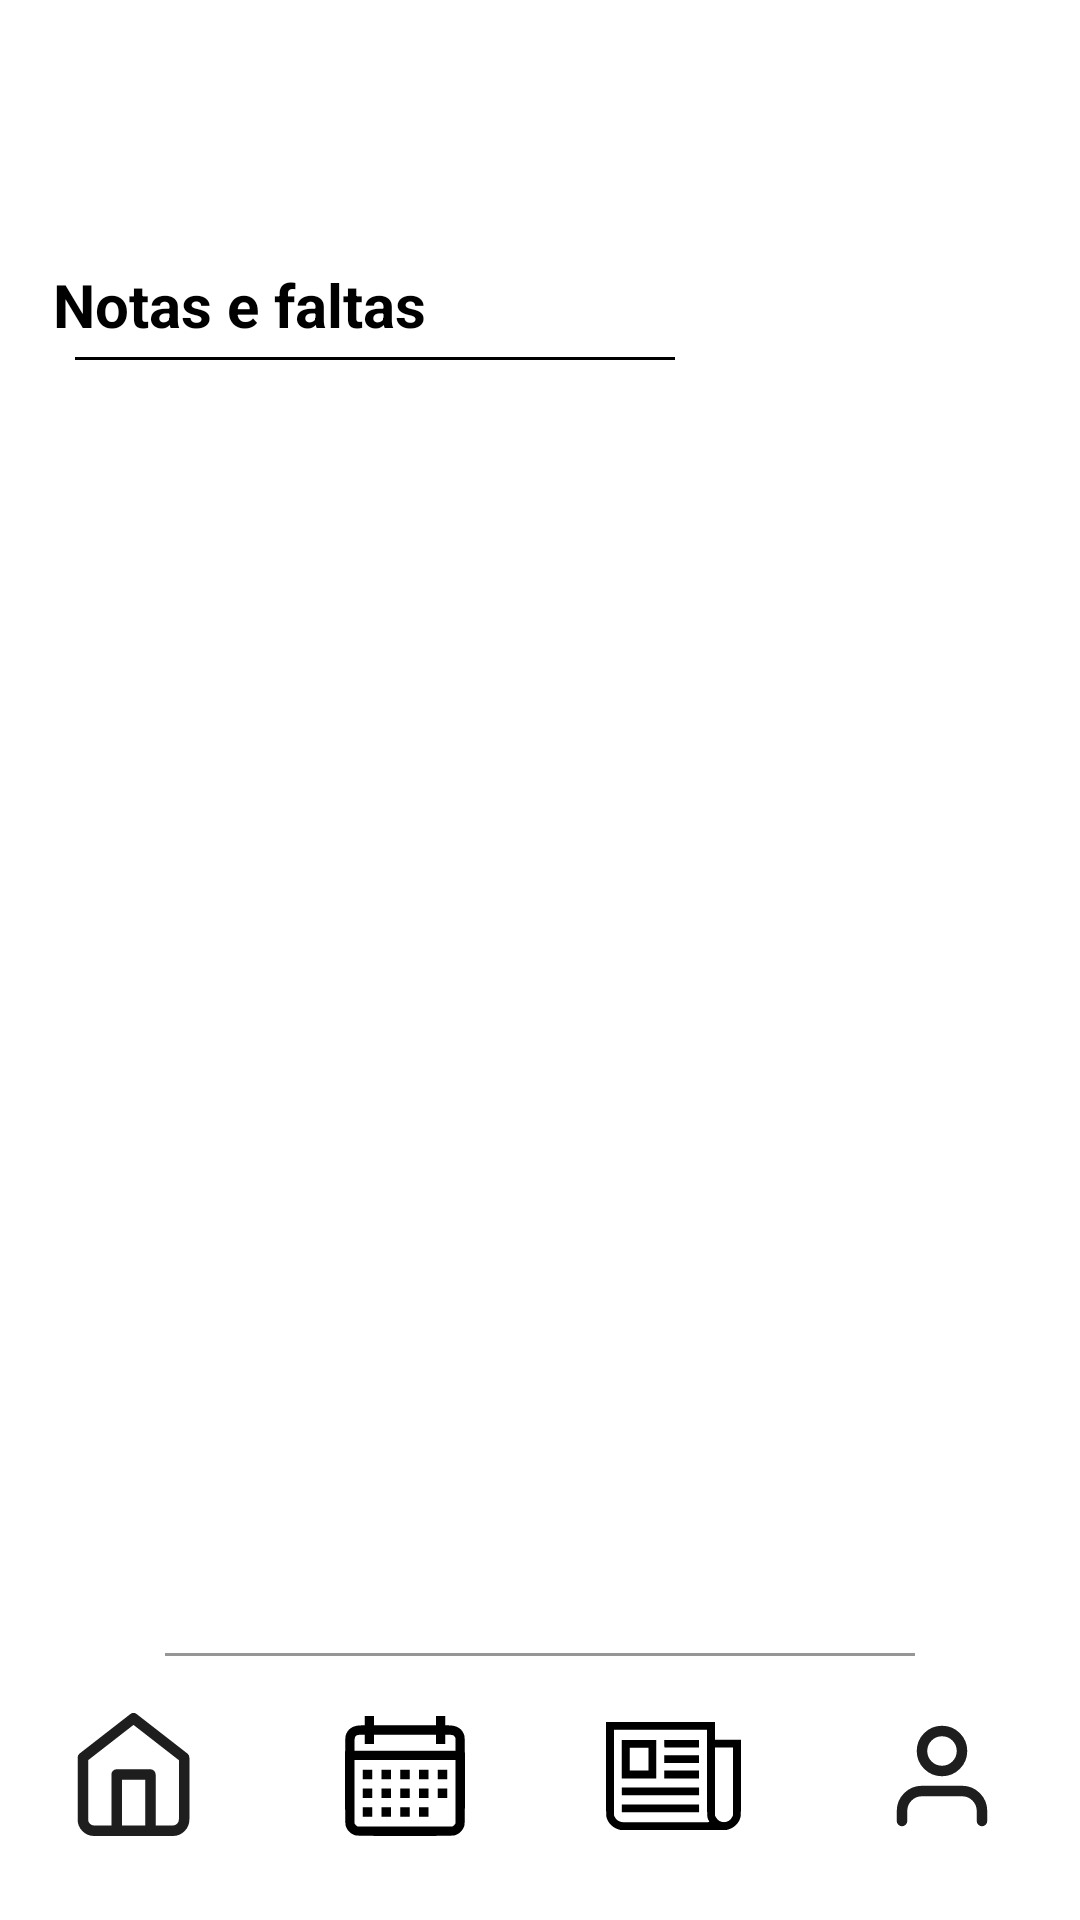

Icons on this 1080px x 1920px Android screen, each with its box as (x1, y1, x2, y2):
Botão para aba notícias: (606, 1722, 741, 1830)
Botão para calendário: (345, 1716, 465, 1836)
Botão para página principal: (77, 1713, 190, 1836)
Botão para área de usuário: (896, 1725, 988, 1827)
